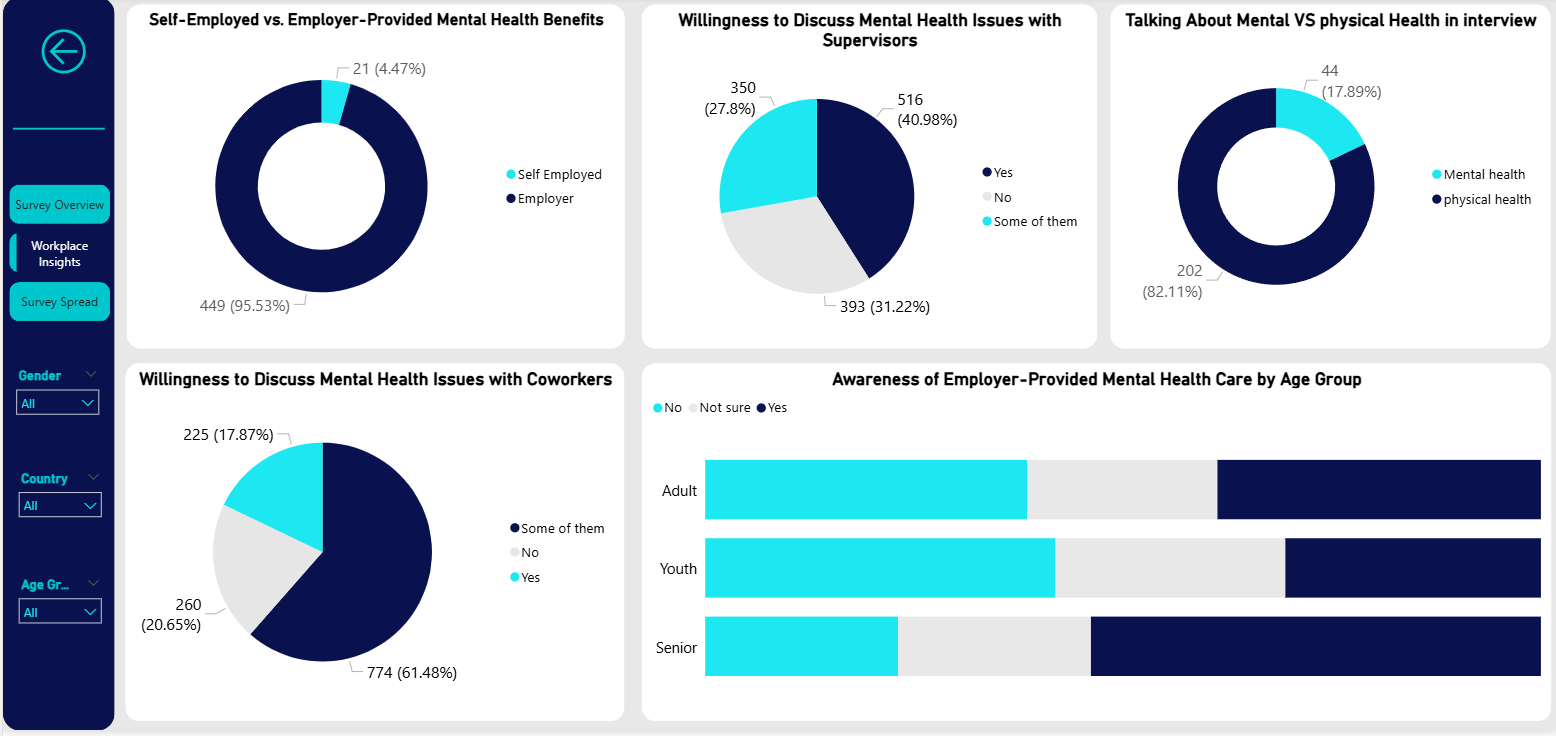

The page's visual inventory and layout, read from the dashboard file:
{"tool":"powerbi","page":{"name":"Workplace Insights","canvas":[1700,800],"ordinal":1},"visuals":[{"type":"donutChart","title":"Self-Employed vs. Employer-Provided Mental Health Benefits","fields":{"Y":["MeasuresTable.Self Employed Provided Mental Health Benefits","MeasuresTable.Employer Provided Mental Health Benefits"]},"box":[135,8.3,543.3,375],"z":0},{"type":"pieChart","title":"Willingness to Discuss Mental Health Issues with Coworkers","fields":{"Y":["MeasuresTable.Participants"],"Category":["survey.coworkers"]},"box":[134.3,400,544.3,390],"z":1000},{"type":"pieChart","title":"Willingness to Discuss Mental Health Issues with Supervisors","fields":{"Y":["MeasuresTable.Participants"],"Category":["survey.supervisor"]},"box":[696.7,8.3,496.7,375],"z":2000},{"type":"hundredPercentStackedBarChart","title":"Awareness of Employer-Provided Mental Health Care by Age Group","fields":{"Category":["survey.Age Groups"],"Series":["survey.care_options"],"Y":["MeasuresTable.Participants"]},"box":[696.7,400,991.7,390],"z":3000},{"type":"shape","box":[0,0,121.7,800],"z":4000,"group":"g1"},{"type":"donutChart","title":"Talking About Mental VS physical Health in interview","fields":{"Y":["MeasuresTable.who talk about mental health","MeasuresTable.who talk about phys health"]},"box":[1208.3,8.3,480,375],"z":4000},{"type":"group","id":"g1","title":"Side Bar","box":[0,0,121.7,800],"z":5000},{"type":"actionButton","box":[35.7,28.6,108.6,61.4],"z":6000},{"type":"slicer","fields":{"Values":["survey.Gender"]},"box":[4.6,400,110.9,76.7],"z":6000,"group":"g1"},{"type":"shape","box":[10.8,103.3,100.1,80],"z":8000,"group":"g1"},{"type":"pageNavigator","box":[6.2,205,110.9,150],"z":9000,"group":"g1"},{"type":"slicer","fields":{"Values":["survey.Country"]},"box":[6.2,511.7,110.9,76.7],"z":10000,"group":"g1"},{"type":"slicer","fields":{"Values":["survey.Age Groups"]},"box":[6.2,626.7,110.9,76.7],"z":11000,"group":"g1"}]}

Visuals, with their boxes in screenshot pixels (x1, y1, x2, y2), scaled from the page's 1700x800 canvas onto the 1556x736 screenshot:
"Self-Employed vs. Employer-Provided Mental Health Benefits" donutChart: region(124, 8, 621, 353)
"Willingness to Discuss Mental Health Issues with Coworkers" pieChart: region(123, 368, 621, 727)
"Willingness to Discuss Mental Health Issues with Supervisors" pieChart: region(638, 8, 1092, 353)
"Awareness of Employer-Provided Mental Health Care by Age Group" hundredPercentStackedBarChart: region(638, 368, 1545, 727)
shape: region(0, 0, 111, 735)
"Talking About Mental VS physical Health in interview" donutChart: region(1106, 8, 1545, 353)
"Side Bar" group: region(0, 0, 111, 735)
actionButton: region(33, 26, 132, 83)
slicer - survey.Gender: region(4, 368, 106, 439)
shape: region(10, 95, 102, 169)
pageNavigator: region(6, 189, 107, 327)
slicer - survey.Country: region(6, 471, 107, 541)
slicer - survey.Age Groups: region(6, 577, 107, 647)
